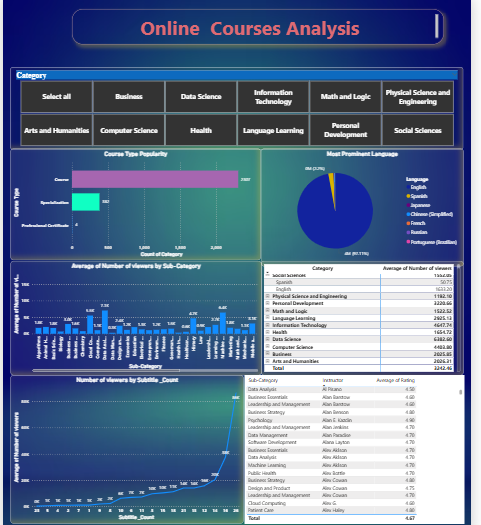

Layout of this report page (visuals, bound fields, positions):
{"tool":"powerbi","page":{"name":"Page 1","canvas":[1300,1500],"ordinal":0},"visuals":[{"type":"textbox","box":[189.8,32.7,1032.7,98],"z":0},{"type":"slicer","fields":{"Values":["Online_Courses.Category"]},"box":[22.5,195,1257.5,227.5],"z":1000},{"type":"barChart","title":"Course Type Popularity","fields":{"Y":["Online_Courses.Category"],"Category":["Online_Courses.Course Type"]},"box":[22.5,422.5,695,310],"z":2000},{"type":"columnChart","fields":{"Category":["Online_Courses.Sub-Category","Online_Courses.Language"],"Y":["Online_Courses.Number of viewers"]},"box":[22.5,732.5,697.5,317.5],"z":3000},{"type":"pieChart","title":"Most Prominent Language","fields":{"Category":["Online_Courses.Language"],"Y":["Online_Courses.Course_id"]},"box":[717.5,422.5,562.5,327.5],"z":3001},{"type":"pivotTable","fields":{"Rows":["Online_Courses.Category","Online_Courses.Language"],"Values":["Online_Courses.Number of viewers"]},"box":[717.5,732.5,562.5,317.5],"z":3002},{"type":"lineChart","title":"Number of viewers by Subtitle _Count","fields":{"Category":["Online_Courses.Subtitle _Count"],"Y":["Online_Courses.Number of viewers"]},"box":[22.5,1050,647.5,412.5],"z":3003},{"type":"tableEx","fields":{"Values":["Teachers.Sub-Category","Teachers.Instructor","Teachers.Rating"]},"box":[670,1050,610,412.5],"z":3004}]}

Visuals, with their boxes in screenshot pixels (x1, y1, x2, y2):
textbox: 65, 0, 448, 35
slicer - Online_Courses.Category: 3, 59, 469, 143
"Course Type Popularity" barChart: 3, 143, 261, 258
columnChart - Online_Courses.Sub-Category x Online_Courses.Language: 3, 258, 262, 376
"Most Prominent Language" pieChart: 261, 143, 469, 265
pivotTable - Online_Courses.Category x Online_Courses.Language: 261, 258, 469, 376
"Number of viewers by Subtitle _Count" lineChart: 3, 376, 243, 524
tableEx - Teachers.Sub-Category x Teachers.Instructor: 243, 376, 469, 524
